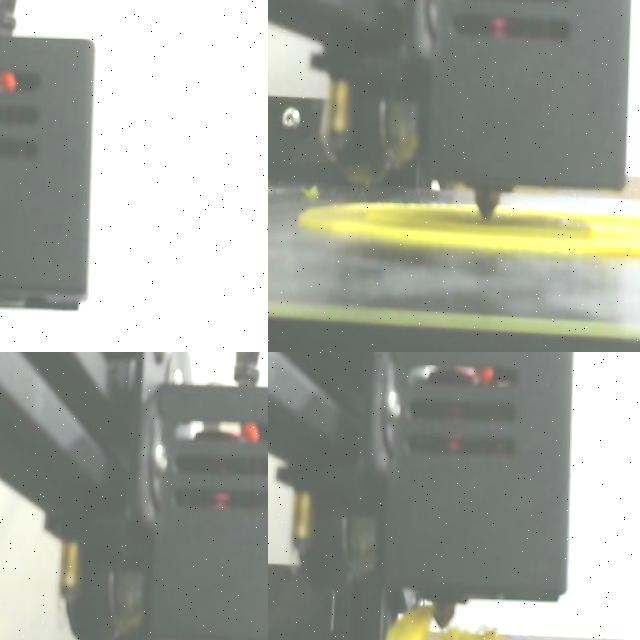spaghetti: (385, 607, 433, 640), (445, 630, 497, 640)
